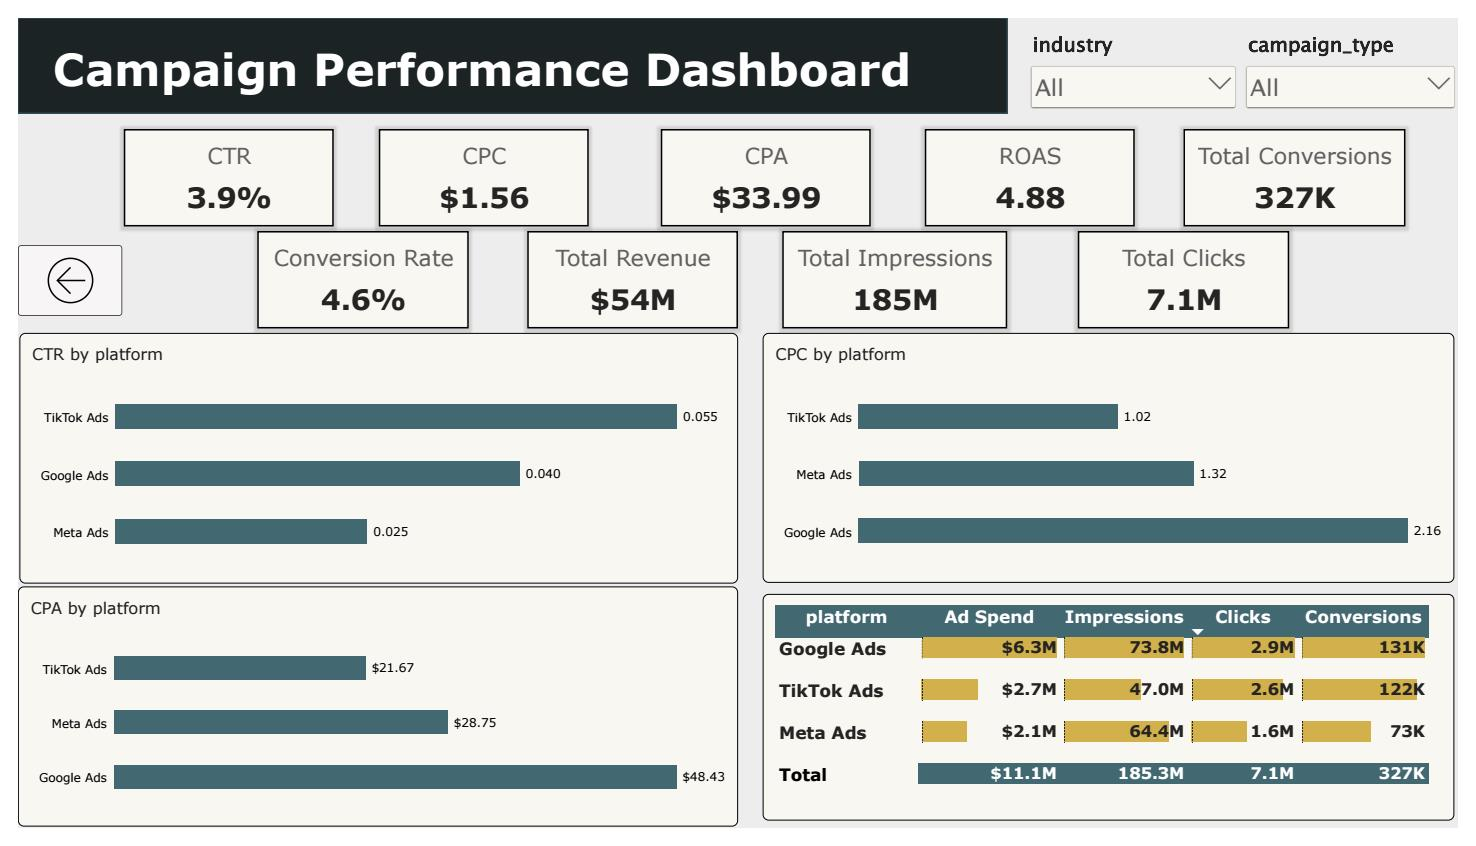

The page's visual inventory and layout, read from the dashboard file:
{"tool":"powerbi","page":{"name":"Campaign & Channel Performance","canvas":[1920,1080],"ordinal":2},"visuals":[{"type":"barChart","fields":{"Category":["global_ads_performance_dataset.platform"],"Y":["ads measures.CTR"]},"box":[2.3,420.3,957.9,333.4],"z":0},{"type":"shape","box":[0,0,1319.5,126.8],"z":1000},{"type":"textbox","box":[47,30.5,1204.4,96.3],"z":2000},{"type":"cardVisual","fields":{"Data":["ads measures.CTR"]},"box":[140.9,147.9,280,130],"z":3000},{"type":"cardVisual","fields":{"Data":["ads measures.CPC"]},"box":[481.3,147.9,280,130],"z":4000},{"type":"cardVisual","fields":{"Data":["ads measures.conversion Rate"]},"box":[319.3,284.1,282,130],"z":5000},{"type":"cardVisual","fields":{"Data":["ads measures.Total Revenue"]},"box":[678.5,284.1,281.7,130],"z":6000},{"type":"cardVisual","fields":{"Data":["ads measures.Total Impressions"]},"box":[1019,284.1,300,130],"z":7000},{"type":"cardVisual","fields":{"Data":["ads measures.Total Clicks"]},"box":[1413.4,284.1,281.7,130],"z":8000},{"type":"cardVisual","fields":{"Data":["ads measures.CPA"]},"box":[857,147.9,280,130],"z":9000},{"type":"cardVisual","fields":{"Data":["ads measures.ROAS"]},"box":[1209.1,147.9,280,130],"z":10000},{"type":"cardVisual","fields":{"Data":["ads measures.Total Conversions"]},"box":[1554.3,147.9,295.8,130],"z":11000},{"type":"slicer","fields":{"Values":["global_ads_performance_dataset.industry"]},"box":[1345.3,16.4,284.1,110.3],"z":12000},{"type":"slicer","fields":{"Values":["global_ads_performance_dataset.campaign_type"]},"box":[1631.7,16.4,288.8,110.3],"z":13000},{"type":"barChart","title":"CPA by platform","fields":{"Category":["global_ads_performance_dataset.platform"],"Y":["ads measures.CPA"]},"box":[0,758.3,960.3,319.3],"z":14000},{"type":"barChart","fields":{"Category":["global_ads_performance_dataset.platform"],"Y":["ads measures.CPC"]},"box":[992.5,420,922.5,332.5],"z":15000},{"type":"pivotTable","fields":{"Rows":["global_ads_performance_dataset.platform"],"Values":["ads measures.Total Ad Spend","ads measures.Total Impressions","ads measures.Total Clicks","ads measures.Total Conversions"]},"box":[992.5,767.5,922.5,302.5],"z":16000},{"type":"actionButton","box":[0,302.9,138.5,93.9],"z":17000}]}

Visuals, with their boxes in screenshot pixels (x1, y1, x2, y2), scaled from the page's 1920x1080 canvas onto the 1476x846 screenshot:
barChart - global_ads_performance_dataset.platform x ads measures.CTR: box=[2, 329, 738, 590]
shape: box=[0, 0, 1014, 99]
textbox: box=[36, 24, 962, 99]
cardVisual - ads measures.CTR: box=[108, 116, 324, 218]
cardVisual - ads measures.CPC: box=[370, 116, 585, 218]
cardVisual - ads measures.conversion Rate: box=[245, 223, 462, 324]
cardVisual - ads measures.Total Revenue: box=[522, 223, 738, 324]
cardVisual - ads measures.Total Impressions: box=[783, 223, 1014, 324]
cardVisual - ads measures.Total Clicks: box=[1087, 223, 1303, 324]
cardVisual - ads measures.CPA: box=[659, 116, 874, 218]
cardVisual - ads measures.ROAS: box=[929, 116, 1145, 218]
cardVisual - ads measures.Total Conversions: box=[1195, 116, 1422, 218]
slicer - global_ads_performance_dataset.industry: box=[1034, 13, 1253, 99]
slicer - global_ads_performance_dataset.campaign_type: box=[1254, 13, 1475, 99]
"CPA by platform" barChart: box=[0, 594, 738, 844]
barChart - global_ads_performance_dataset.platform x ads measures.CPC: box=[763, 329, 1472, 589]
pivotTable - global_ads_performance_dataset.platform x ads measures.Total Ad Spend: box=[763, 601, 1472, 838]
actionButton: box=[0, 237, 106, 311]
